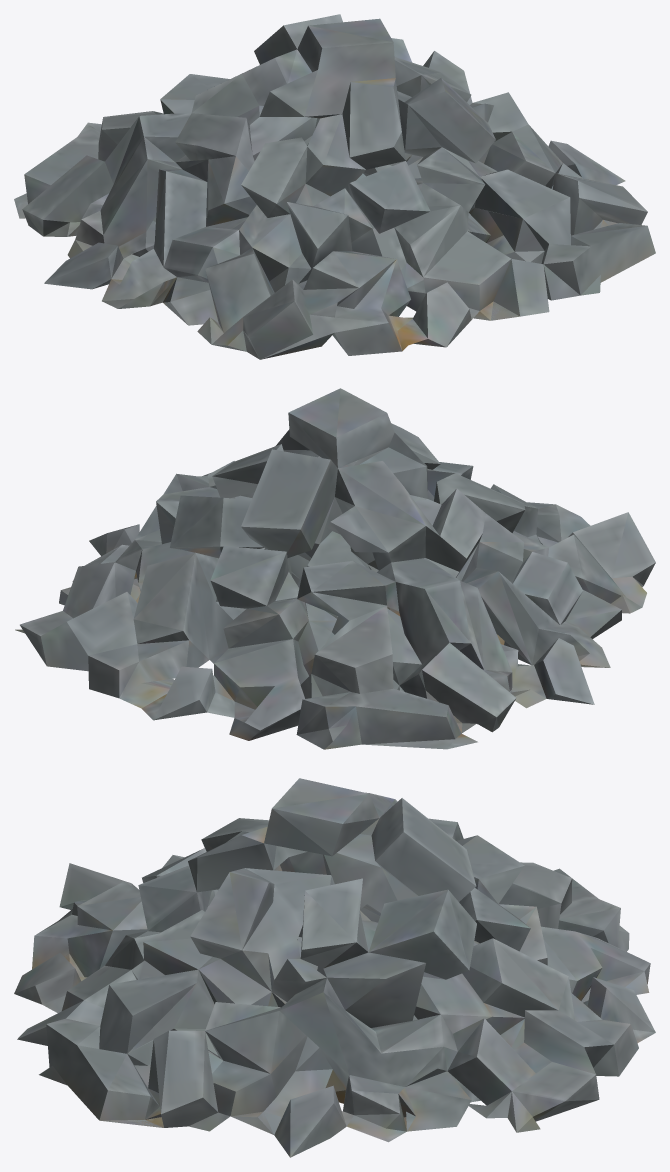
The model's file is rubble-pile.low.glb.
The picture shows the model from 3 angles, top to bottom: view 1: azimuth 30°, elevation 25°; view 2: azimuth 150°, elevation 25°; view 3: azimuth 270°, elevation 25°; orthographic projection. The views are drawn at different scales.
Visible parts, largest first — view 1: output_unwrapped; view 2: output_unwrapped; view 3: output_unwrapped.
Boxes of the visible parts, x1,y1,x2,y2 form: output_unwrapped: (14, 14, 655, 359); output_unwrapped: (15, 388, 655, 749); output_unwrapped: (14, 778, 655, 1157).
Size of the model in its own units: 1.87 by 0.7326 by 1.77.
1 material, 1 textured.
